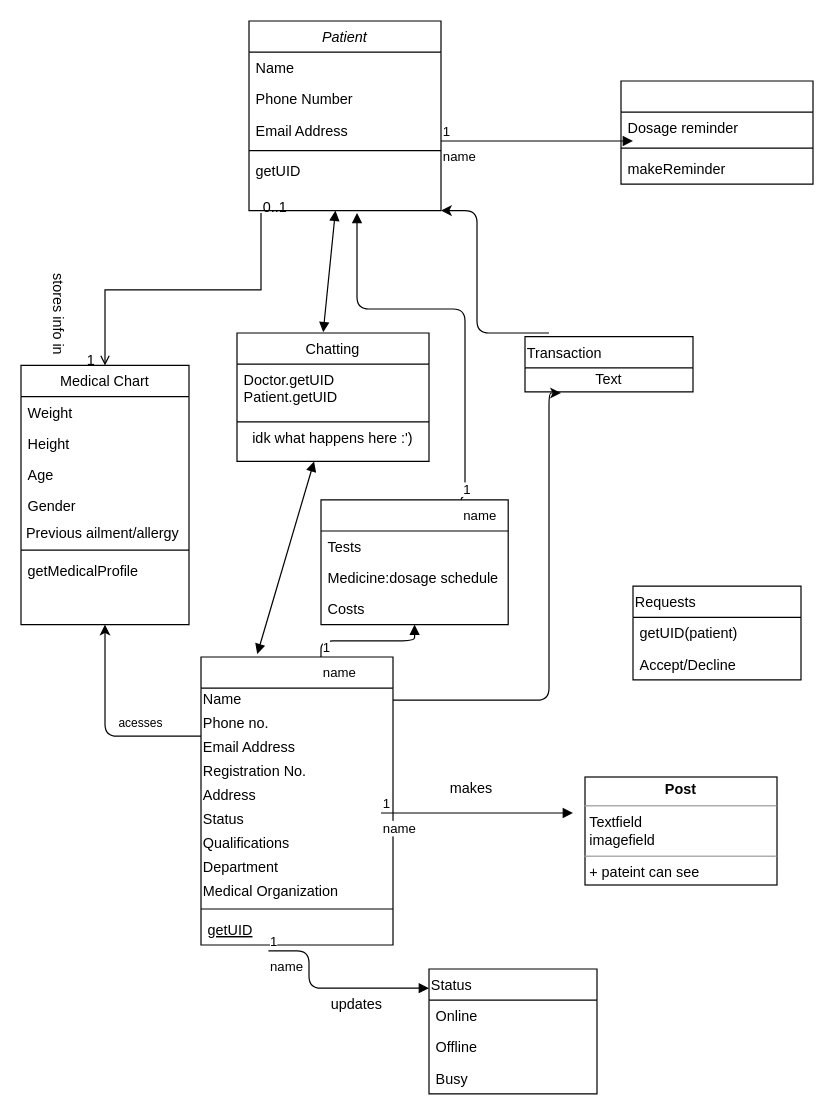
Some shapes in this 834 by 1118 pixel diagram are drawn without their labels. The box of each missing label's shape, as (x1, y1, x2, y2) in pixels:
Doctor: (200, 656, 393, 945)
Notes/Reminder: (620, 80, 813, 184)
Prescription: (320, 499, 508, 625)
